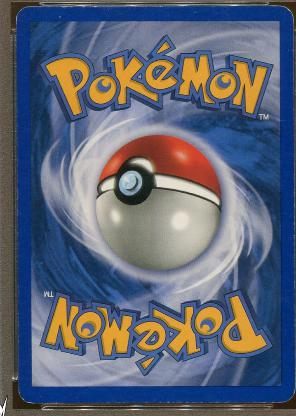Card: (16, 5, 294, 403)
Corner Wear: (275, 374, 293, 404), (15, 6, 30, 24), (280, 5, 293, 23)
Edge Wear: (291, 156, 293, 258), (46, 5, 117, 7), (274, 224, 288, 228), (70, 402, 256, 402)
